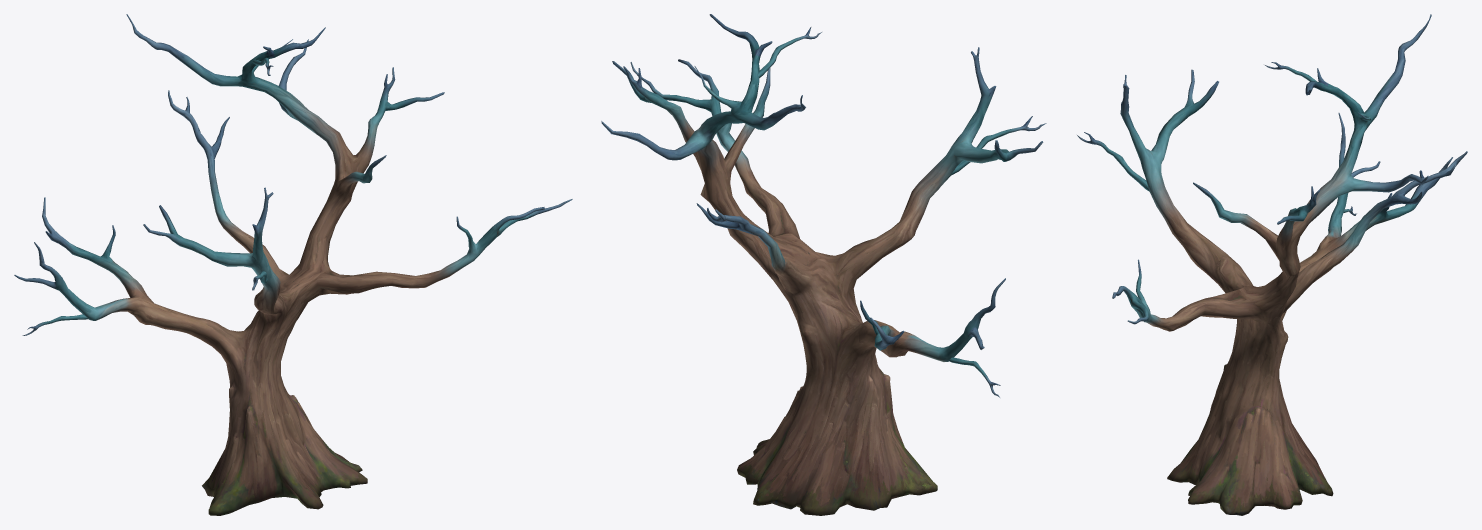
The model's file is Homeworld_Exterior_Xm_Plant_Tree_Qqstyle_01_Bark_Lod0.fbx.
The picture shows the model from 3 angles, left to right: view 1: azimuth 30°, elevation 25°; view 2: azimuth 150°, elevation 25°; view 3: azimuth 270°, elevation 25°; orthographic projection. The views are drawn at different scales.
Visible parts, largest first — view 1: Homeworld_Exterior_Xm_Plant_Tree_Qqstyle_01_Bark_Lod0; view 2: Homeworld_Exterior_Xm_Plant_Tree_Qqstyle_01_Bark_Lod0; view 3: Homeworld_Exterior_Xm_Plant_Tree_Qqstyle_01_Bark_Lod0.
Boxes of the visible parts, <box> form: Homeworld_Exterior_Xm_Plant_Tree_Qqstyle_01_Bark_Lod0: <box>14,14,572,515</box>; Homeworld_Exterior_Xm_Plant_Tree_Qqstyle_01_Bark_Lod0: <box>601,14,1046,515</box>; Homeworld_Exterior_Xm_Plant_Tree_Qqstyle_01_Bark_Lod0: <box>1077,14,1467,515</box>.
Size of the model in its own units: 10.85 by 10.01 by 8.08.
